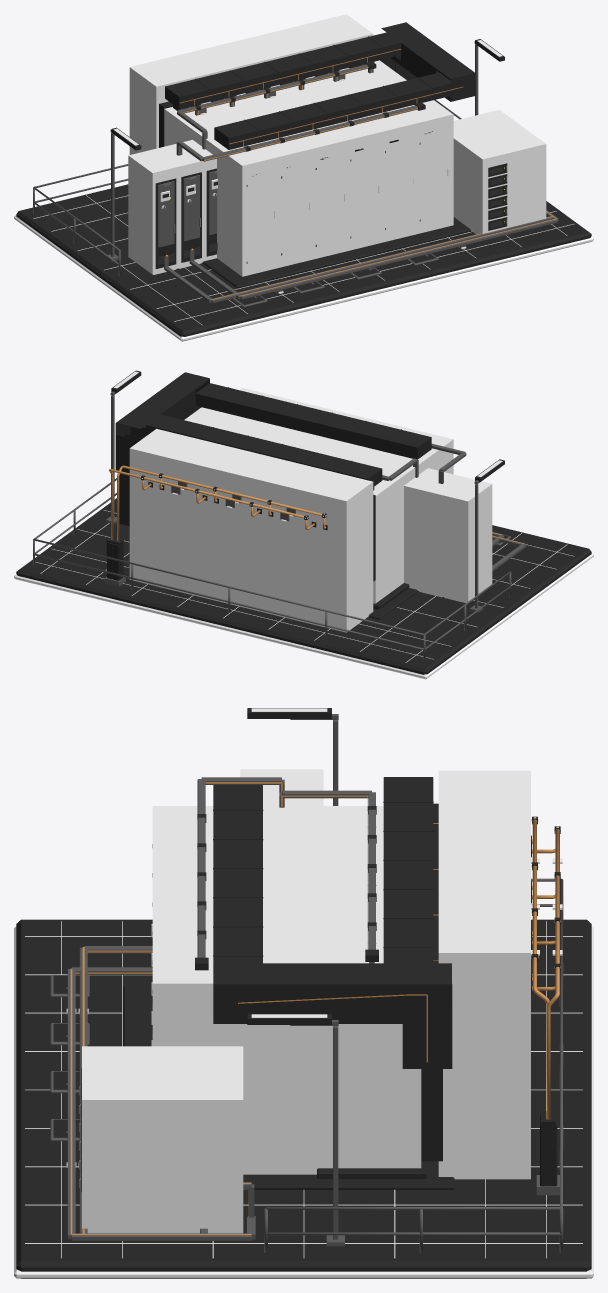
File: facility.glb
The picture shows the model from 3 angles, top to bottom: view 1: azimuth 30°, elevation 25°; view 2: azimuth 150°, elevation 25°; view 3: azimuth 270°, elevation 25°; orthographic projection. The views are drawn at different scales.
Parts seen in each view (by area): view 1: GN_PICK_WORKLOADS, GN_PLATFORM_Platform, GN_PICK_STORAGE, GN_AIR_SECTION_COVERS_Graphite, GN_PICK_COOLING, GN_COOLING_Graphite, GN_PICK_POWER, GN_POWER_Steel, GN_PLATFORM_Dark, GN_PLATFORM_Graphite, GN_STORAGE_Steel, GN_PLATFORM_Steel (+7 smaller); view 2: GN_PICK_COOLING, GN_PLATFORM_Platform, GN_PICK_POWER, GN_PICK_WORKLOADS, GN_AIR_SECTION_COVERS_Graphite, GN_COOLING_Graphite, GN_PLATFORM_Steel, GN_PLATFORM_Dark, GN_ACCENT_COOLING_Copper, GN_PLATFORM_Graphite, GN_POWER_Steel, GN_COOLING_Steel (+1 smaller); view 3: GN_PLATFORM_Platform, GN_PICK_WORKLOADS, GN_PICK_COOLING, GN_PICK_STORAGE, GN_AIR_SECTION_COVERS_Graphite, GN_COOLING_Graphite, GN_PLATFORM_Dark, GN_PLATFORM_Graphite, GN_PLATFORM_Steel, GN_STORAGE_Steel, GN_POWER_Steel, GN_ACCENT_COOLING_Copper (+2 smaller).
Part boxes in pixels (<box>): GN_PICK_WORKLOADS: <box>164,60,453,276</box>; GN_PLATFORM_Platform: <box>16,184,591,336</box>; GN_PICK_STORAGE: <box>453,109,546,234</box>; GN_AIR_SECTION_COVERS_Graphite: <box>164,22,474,137</box>; GN_PICK_COOLING: <box>129,14,373,154</box>; GN_COOLING_Graphite: <box>159,43,475,149</box>; GN_PICK_POWER: <box>128,140,216,274</box>; GN_POWER_Steel: <box>158,64,417,247</box>; GN_PLATFORM_Dark: <box>14,40,593,341</box>; GN_PLATFORM_Graphite: <box>111,39,504,304</box>; GN_STORAGE_Steel: <box>164,210,558,303</box>; GN_PLATFORM_Steel: <box>33,41,478,307</box>; GN_PICK_COOLING: <box>129,429,373,632</box>; GN_PLATFORM_Platform: <box>16,498,591,674</box>; GN_PICK_POWER: <box>404,468,492,602</box>; GN_PICK_WORKLOADS: <box>195,388,453,603</box>; GN_AIR_SECTION_COVERS_Graphite: <box>116,372,431,478</box>; GN_COOLING_Graphite: <box>106,378,431,581</box>; GN_PLATFORM_Steel: <box>33,391,511,660</box>; GN_PLATFORM_Dark: <box>14,371,593,679</box>; GN_ACCENT_COOLING_Copper: <box>109,465,325,541</box>; GN_PLATFORM_Graphite: <box>111,370,508,619</box>; GN_POWER_Steel: <box>382,443,466,483</box>; GN_COOLING_Steel: <box>104,481,295,586</box>; GN_PLATFORM_Platform: <box>16,919,591,1278</box>; GN_PICK_WORKLOADS: <box>152,806,421,1174</box>; GN_PICK_COOLING: <box>438,770,530,1179</box>; GN_PICK_STORAGE: <box>82,1046,243,1233</box>; GN_AIR_SECTION_COVERS_Graphite: <box>213,777,451,1160</box>; GN_COOLING_Graphite: <box>213,777,560,1186</box>; GN_PLATFORM_Dark: <box>14,708,593,1278</box>; GN_PLATFORM_Graphite: <box>53,708,454,1189</box>; GN_PLATFORM_Steel: <box>50,714,563,1252</box>; GN_STORAGE_Steel: <box>67,946,255,1240</box>; GN_POWER_Steel: <box>197,777,375,957</box>; GN_ACCENT_COOLING_Copper: <box>238,820,559,1119</box>.
Size of the model in its own units: 10.86 by 3.59 by 7.66.
8 materials, 8 textured.
